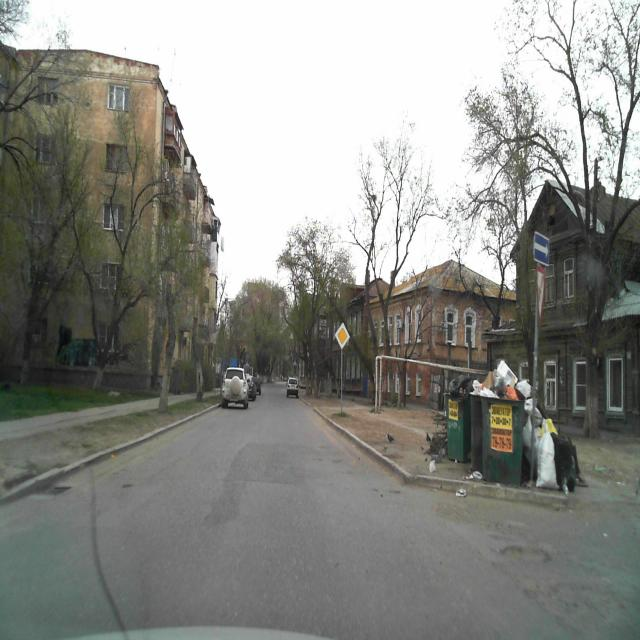road sign: (531, 231, 550, 266), (534, 267, 547, 318), (335, 322, 350, 350)
